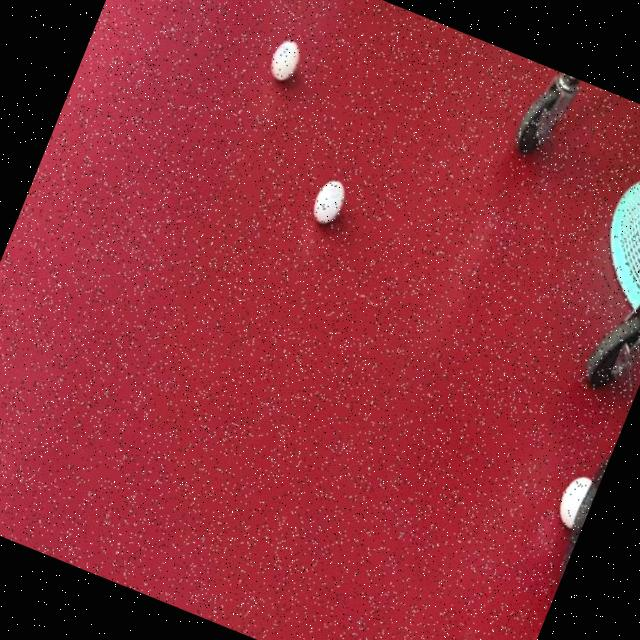ping-pong-ball: (304, 172, 352, 230), (263, 34, 307, 84)
